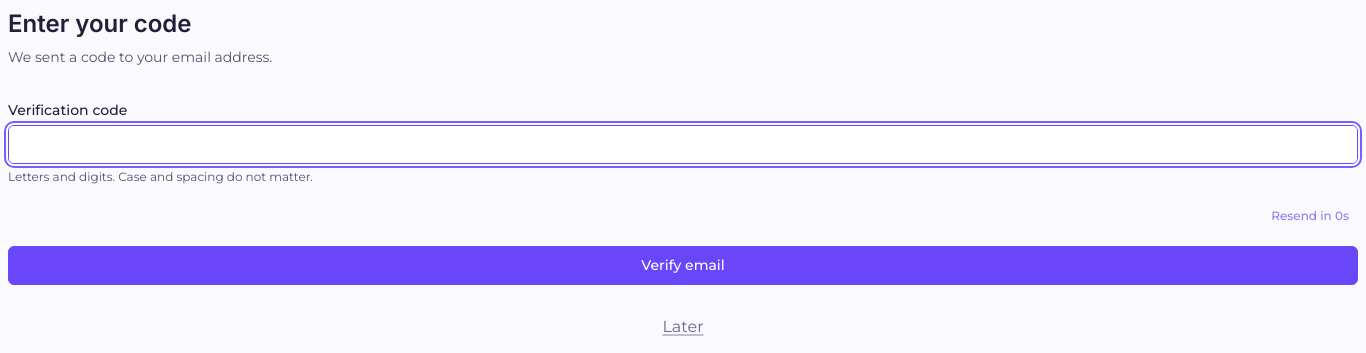
Test: a failed read still lets the code be typed › leaves the field usable and the resend offered when the read fails
The width and height of the screenshot is (1366, 353).
Type "7qk3" into the field labelled "Verification code".
click(683, 145); type("7qk3")  # box [9,126,1357,163]
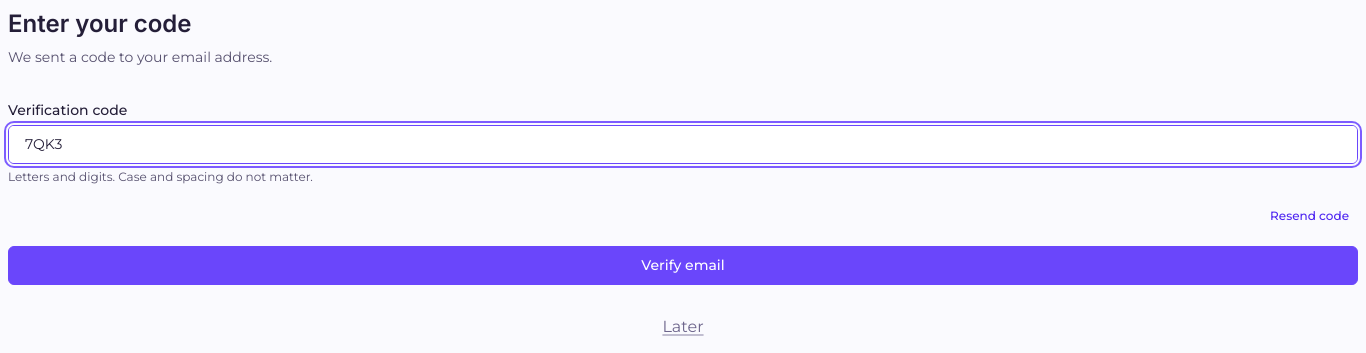
Check: the button "Resend code" is enabled, box [1261,202,1358,230]
